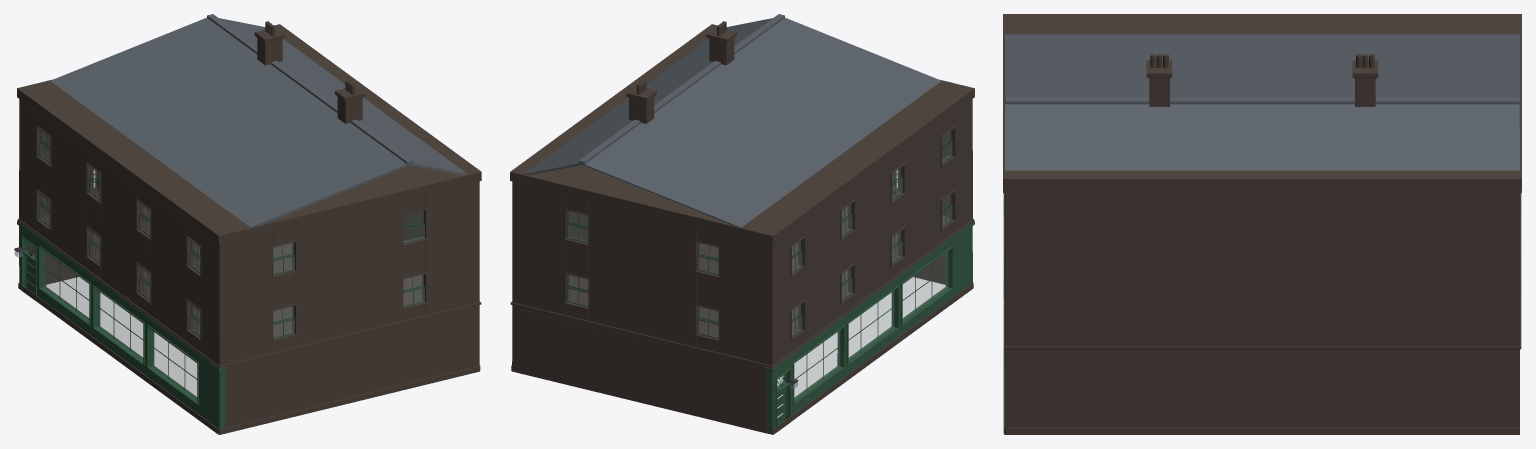
The model's file is ginpalace.glb.
The picture shows the model from 3 angles, left to right: view 1: azimuth 30°, elevation 25°; view 2: azimuth 150°, elevation 25°; view 3: azimuth 270°, elevation 25°; orthographic projection. The views are drawn at different scales.
Parts seen in each view (by area): view 1: ginpalace; view 2: ginpalace; view 3: ginpalace.
Boxes of the visible parts, box(x1,y1,x2,y2) form: ginpalace: box(14, 14, 481, 434); ginpalace: box(510, 14, 974, 434); ginpalace: box(1003, 14, 1521, 434).
Bounding box in the file's own units: 15.87 × 14.41 × 20.16.
